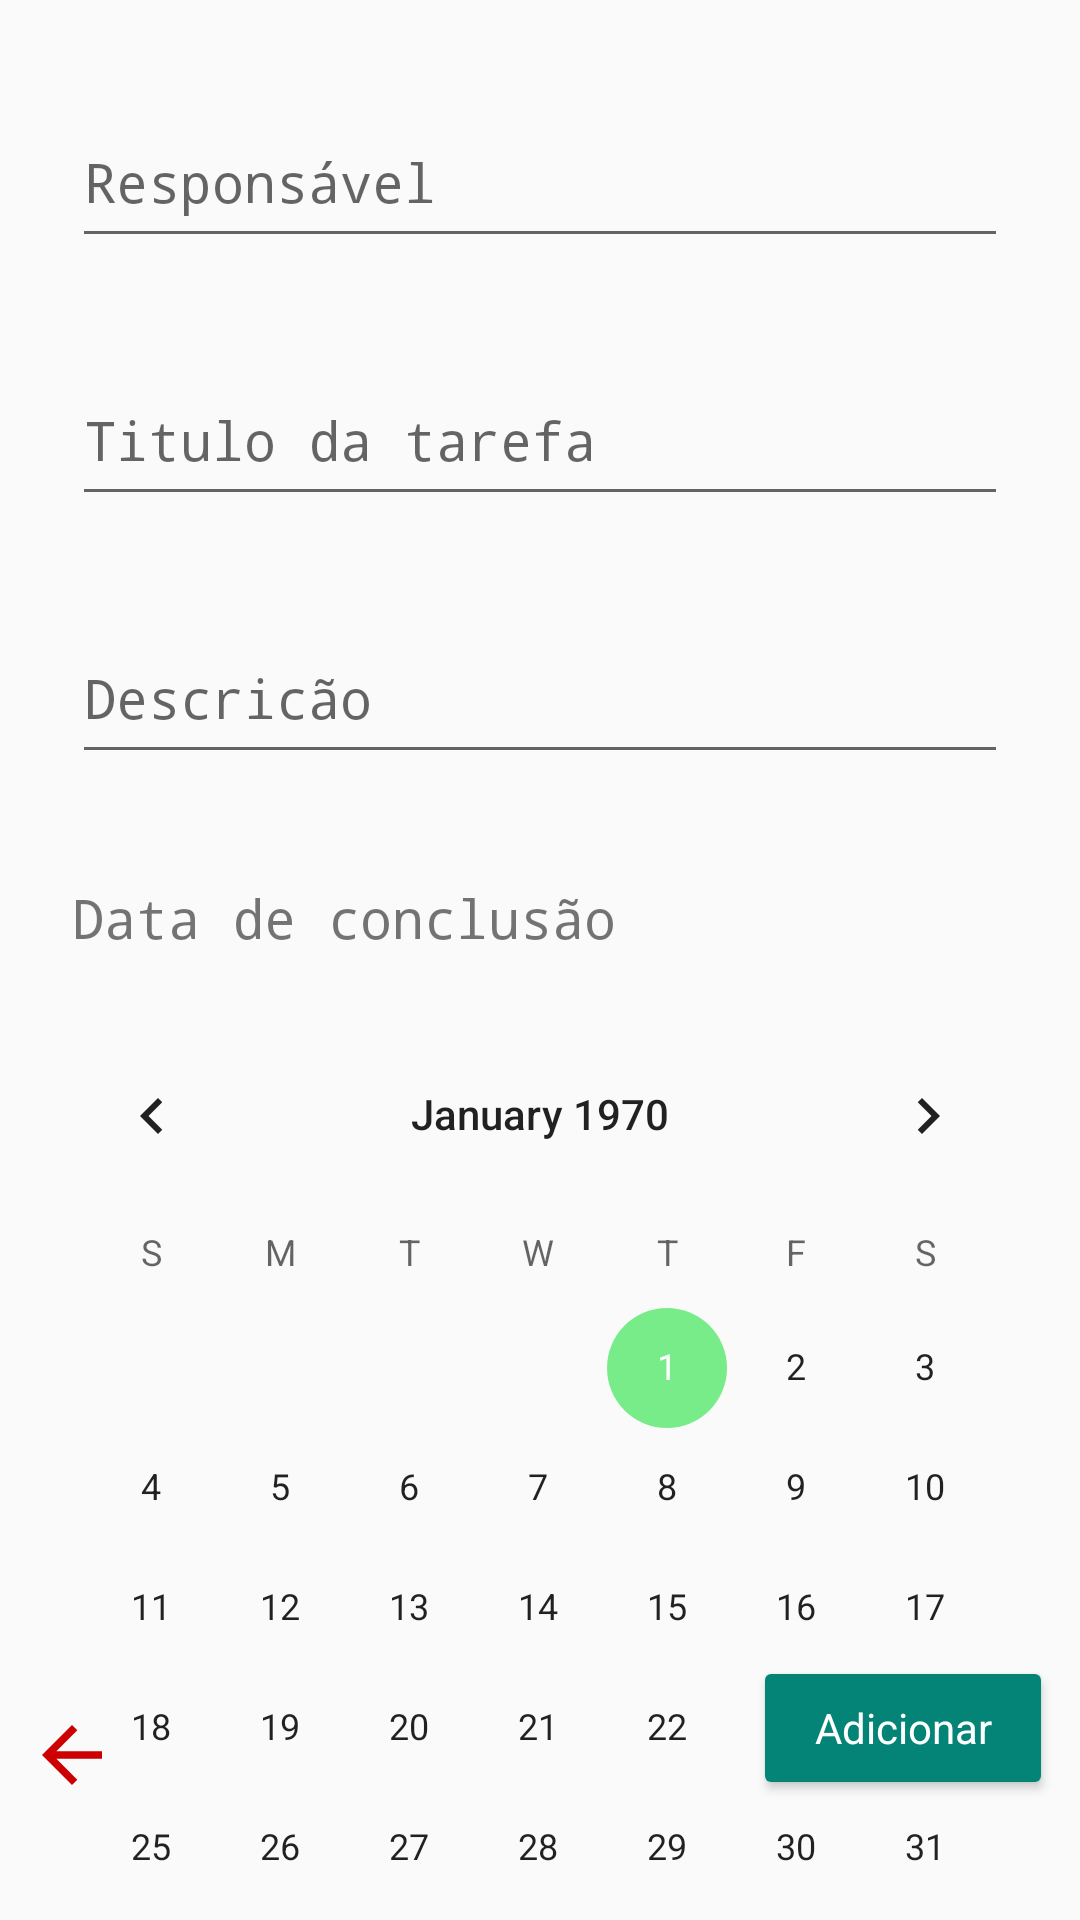

Where icons sit on this 1080 × 1920 app screen, as BBox(x1, y1, x2, y2):
arrow back: BBox(42, 1725, 102, 1785)
